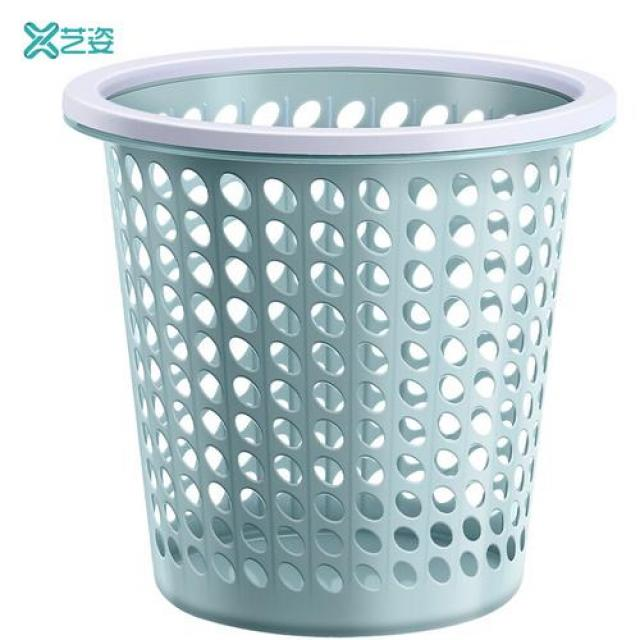Dustbin: (55, 37, 622, 640)
